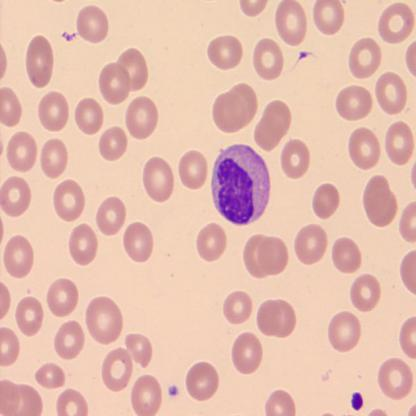Metamyelocyte: (208, 142, 272, 227)
